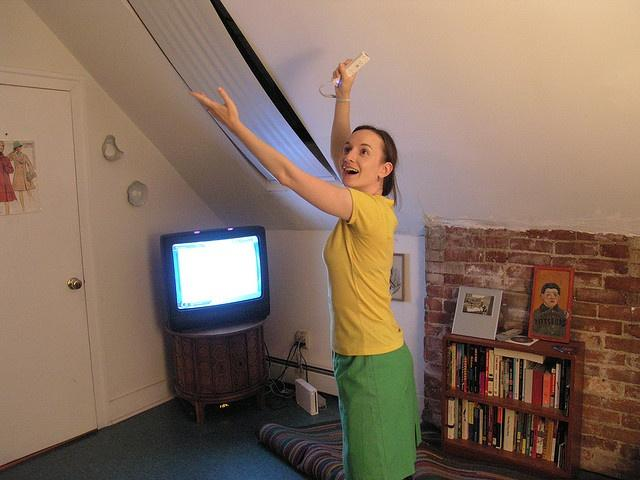Rak: (441, 336, 575, 479)
